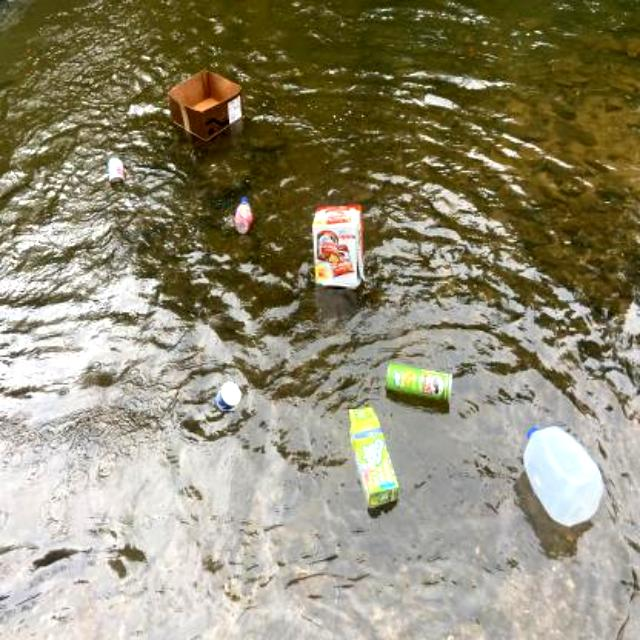Cardboard: (160, 65, 256, 149), (308, 193, 374, 297), (346, 400, 402, 520)
Metal: (382, 359, 458, 406), (104, 151, 128, 189)
Paper: (208, 372, 244, 418)
Plastic: (515, 418, 605, 530), (227, 191, 257, 237)
